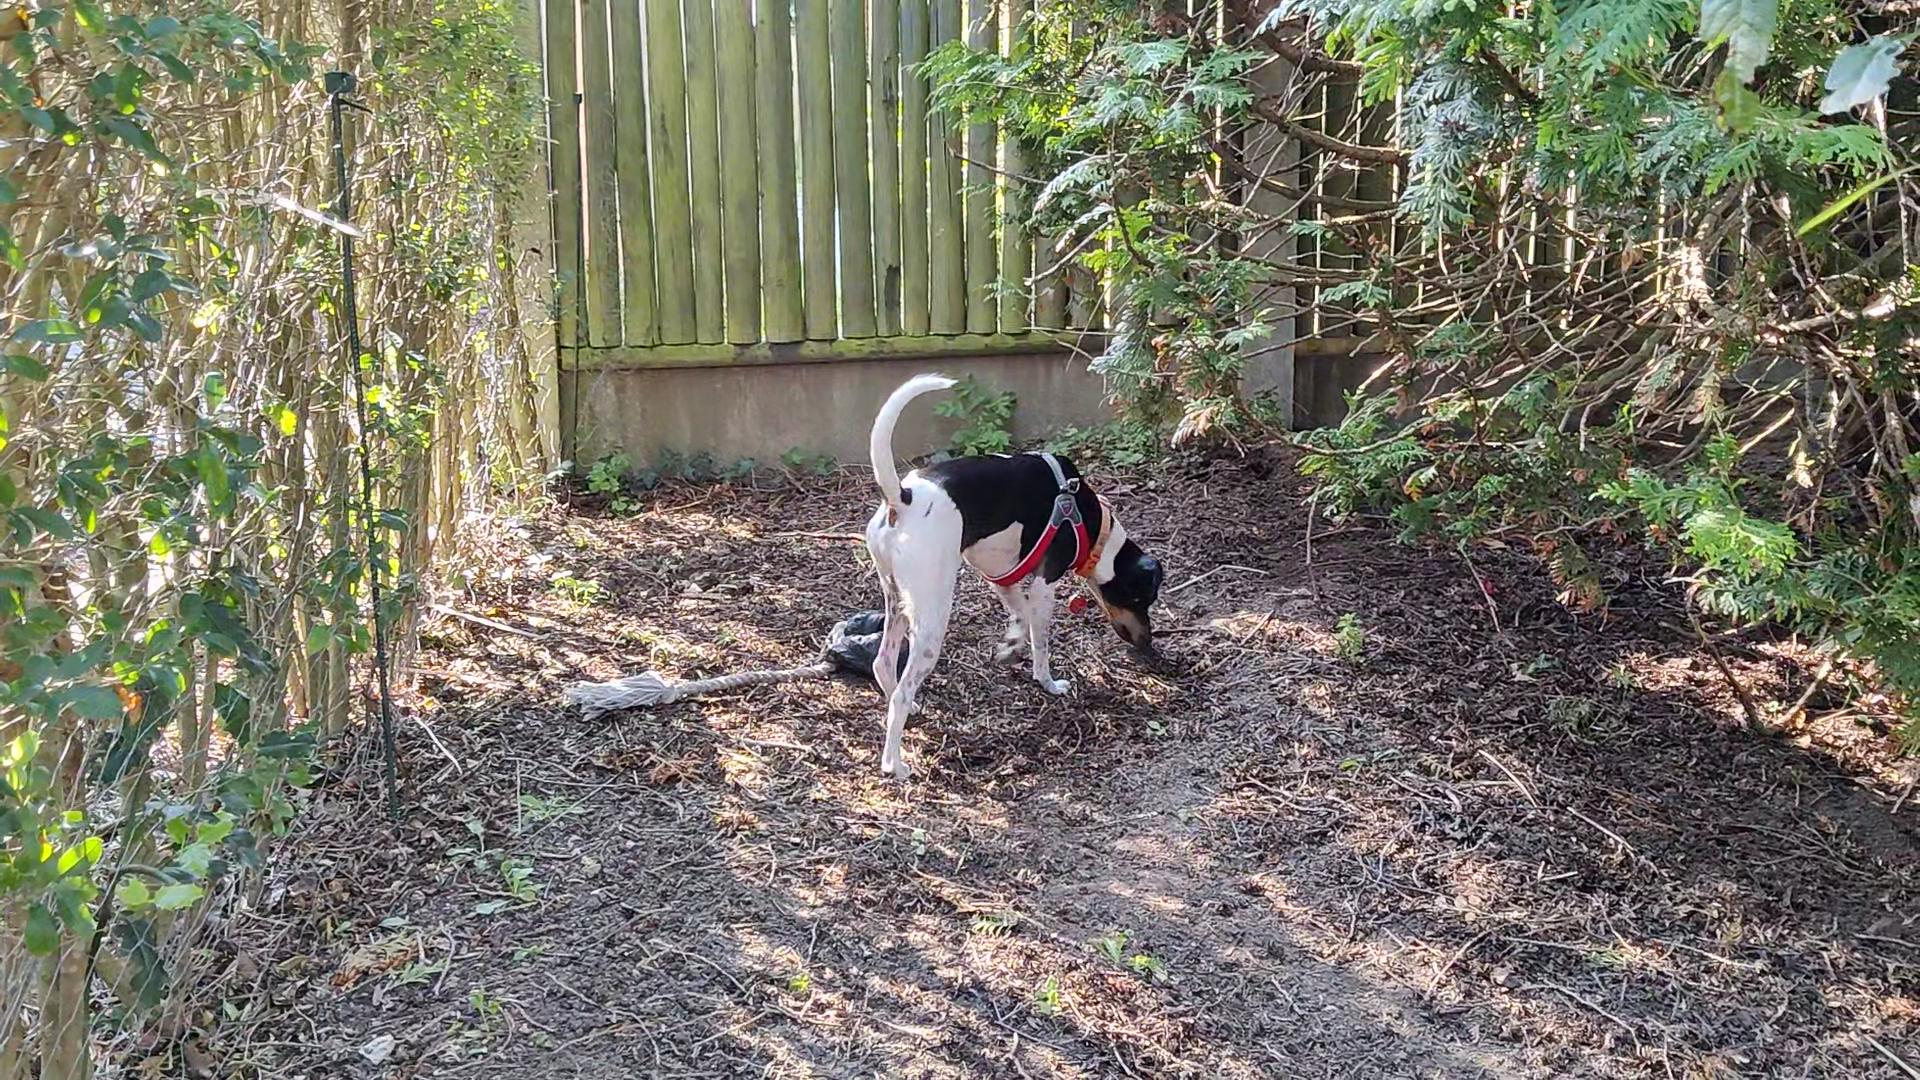Dog: (833, 367, 1188, 799)
